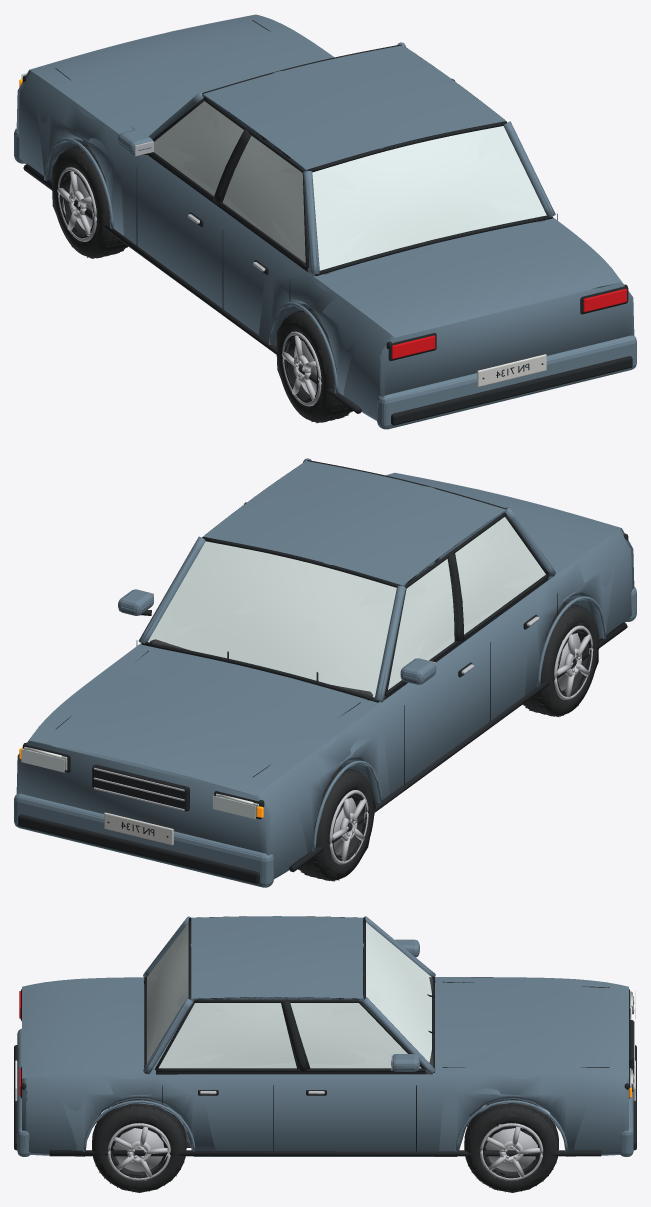
File: VehicleSedan.fbx
The picture shows the model from 3 angles, top to bottom: view 1: azimuth 30°, elevation 25°; view 2: azimuth 150°, elevation 25°; view 3: azimuth 270°, elevation 25°; orthographic projection. The views are drawn at different scales.
Visible parts, largest first — view 1: VehicleSedan_Body_LOD0_Export, VehicleSedan_Glass_LOD0_Export, VehicleSedan_Body_LOD1_Export, VehicleSedan_Body_LOD2_Export, VehicleSedan_Glass_LOD1_Export, VehicleSedan_Glass_LOD2_Export, VehicleSedan_Wheel_0_LOD0_Export, VehicleSedan_Wheel_1_LOD0_Export, VehicleSedan_Wheel_1_LOD1_Export, VehicleSedan_Wheel_0_LOD1_Export, VehicleSedan_Wheel_1_LOD2_Export, VehicleSedan_Wheel_0_LOD2_Export; view 2: VehicleSedan_Body_LOD0_Export, VehicleSedan_Glass_LOD0_Export, VehicleSedan_Body_LOD2_Export, VehicleSedan_Body_LOD1_Export, VehicleSedan_Glass_LOD1_Export, VehicleSedan_Wheel_1_LOD0_Export, VehicleSedan_Wheel_0_LOD0_Export, VehicleSedan_Glass_LOD2_Export, VehicleSedan_Wheel_1_LOD1_Export, VehicleSedan_Wheel_0_LOD1_Export, VehicleSedan_Wheel_0_LOD2_Export, VehicleSedan_Wheel_1_LOD2_Export; view 3: VehicleSedan_Body_LOD0_Export, VehicleSedan_Glass_LOD0_Export, VehicleSedan_Body_LOD1_Export, VehicleSedan_Body_LOD2_Export, VehicleSedan_Wheel_3_LOD0_Export, VehicleSedan_Wheel_2_LOD0_Export, VehicleSedan_Glass_LOD1_Export, VehicleSedan_Wheel_2_LOD1_Export, VehicleSedan_Wheel_3_LOD1_Export, VehicleSedan_Glass_LOD2_Export, VehicleSedan_Wheel_3_LOD2_Export, VehicleSedan_Wheel_2_LOD2_Export.
Boxes of the visible parts, x1,y1,x2,y2 form: VehicleSedan_Body_LOD0_Export: (14, 14, 636, 429); VehicleSedan_Glass_LOD0_Export: (21, 73, 546, 270); VehicleSedan_Body_LOD1_Export: (16, 17, 636, 428); VehicleSedan_Body_LOD2_Export: (15, 21, 636, 428); VehicleSedan_Glass_LOD1_Export: (156, 101, 540, 265); VehicleSedan_Glass_LOD2_Export: (155, 102, 533, 260); VehicleSedan_Wheel_0_LOD0_Export: (276, 308, 352, 423); VehicleSedan_Wheel_1_LOD0_Export: (52, 144, 127, 258); VehicleSedan_Wheel_1_LOD1_Export: (52, 148, 125, 256); VehicleSedan_Wheel_0_LOD1_Export: (278, 312, 349, 422); VehicleSedan_Wheel_1_LOD2_Export: (52, 149, 128, 258); VehicleSedan_Wheel_0_LOD2_Export: (276, 317, 352, 419); VehicleSedan_Body_LOD0_Export: (14, 458, 636, 887); VehicleSedan_Glass_LOD0_Export: (21, 520, 545, 819); VehicleSedan_Body_LOD2_Export: (15, 460, 635, 886); VehicleSedan_Body_LOD1_Export: (14, 460, 635, 887); VehicleSedan_Glass_LOD1_Export: (156, 517, 545, 689); VehicleSedan_Wheel_1_LOD0_Export: (299, 766, 373, 881); VehicleSedan_Wheel_0_LOD0_Export: (523, 602, 598, 716); VehicleSedan_Glass_LOD2_Export: (166, 522, 534, 685); VehicleSedan_Wheel_1_LOD1_Export: (300, 771, 373, 880); VehicleSedan_Wheel_0_LOD1_Export: (525, 606, 598, 716); VehicleSedan_Wheel_0_LOD2_Export: (522, 607, 598, 716); VehicleSedan_Wheel_1_LOD2_Export: (298, 775, 375, 877); VehicleSedan_Body_LOD0_Export: (14, 916, 636, 1156); VehicleSedan_Glass_LOD0_Export: (147, 928, 635, 1095); VehicleSedan_Body_LOD1_Export: (15, 916, 635, 1156); VehicleSedan_Body_LOD2_Export: (14, 916, 636, 1156); VehicleSedan_Wheel_3_LOD0_Export: (464, 1099, 558, 1192); VehicleSedan_Wheel_2_LOD0_Export: (92, 1099, 186, 1191); VehicleSedan_Glass_LOD1_Export: (147, 928, 431, 1068); VehicleSedan_Wheel_2_LOD1_Export: (93, 1099, 185, 1190); VehicleSedan_Wheel_3_LOD1_Export: (465, 1099, 557, 1190); VehicleSedan_Glass_LOD2_Export: (147, 922, 431, 1068); VehicleSedan_Wheel_3_LOD2_Export: (465, 1110, 557, 1192); VehicleSedan_Wheel_2_LOD2_Export: (93, 1110, 185, 1192).
Size of the model in its own units: 2.13 by 1.49 by 4.52.
